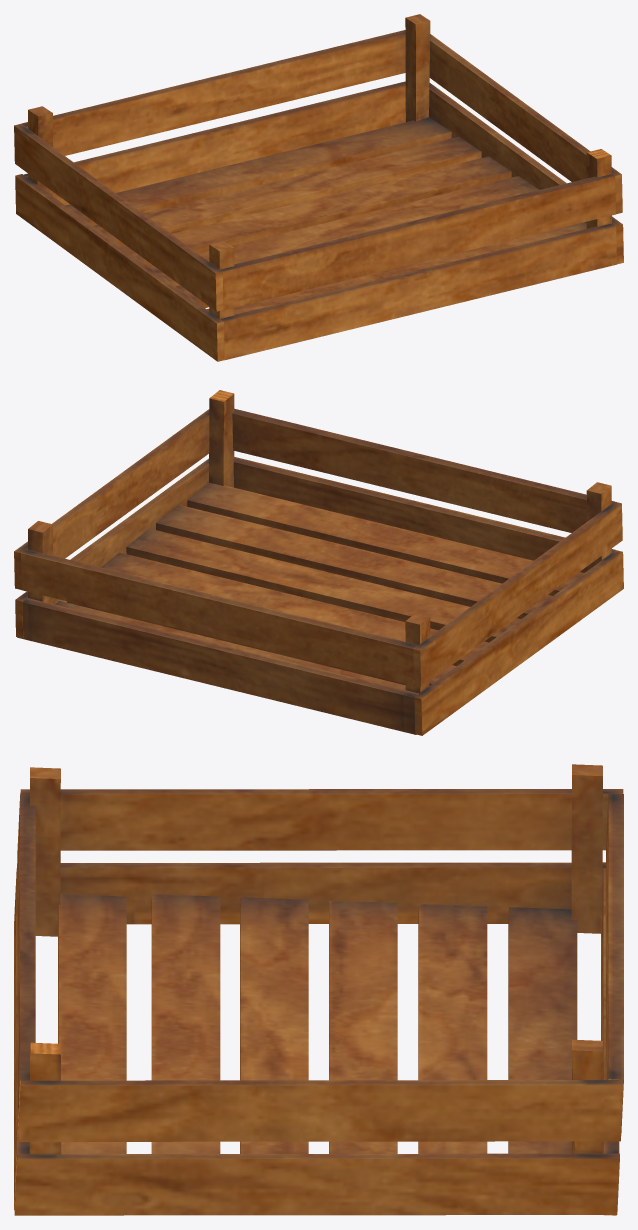
File: Rack.fbx
The picture shows the model from 3 angles, top to bottom: view 1: azimuth 30°, elevation 25°; view 2: azimuth 150°, elevation 25°; view 3: azimuth 270°, elevation 25°; orthographic projection. The views are drawn at different scales.
Parts seen in each view (by area): view 1: Rack.012; view 2: Rack.012; view 3: Rack.012.
Boxes of the visible parts, left/top/right/bottom form: Rack.012: left=14, top=14, right=623, bottom=361; Rack.012: left=14, top=390, right=623, bottom=735; Rack.012: left=14, top=764, right=623, bottom=1215.
Size of the model in its own units: 0.6471 by 0.1649 by 0.563.
